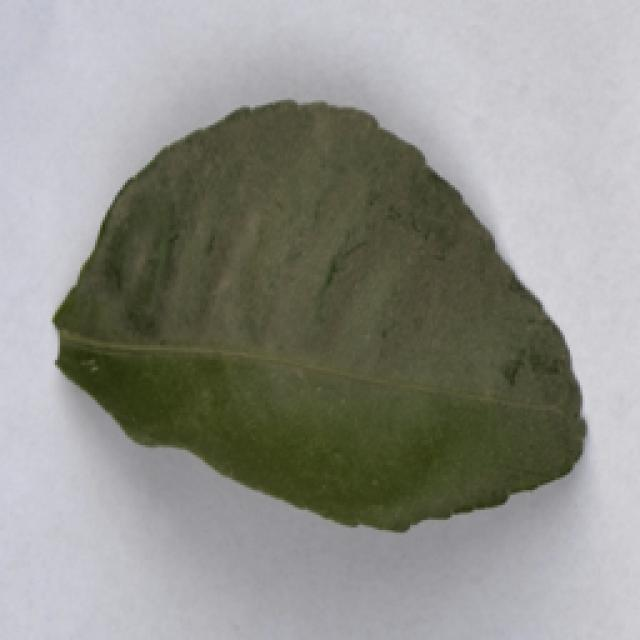healthy: (53, 94, 592, 542)
